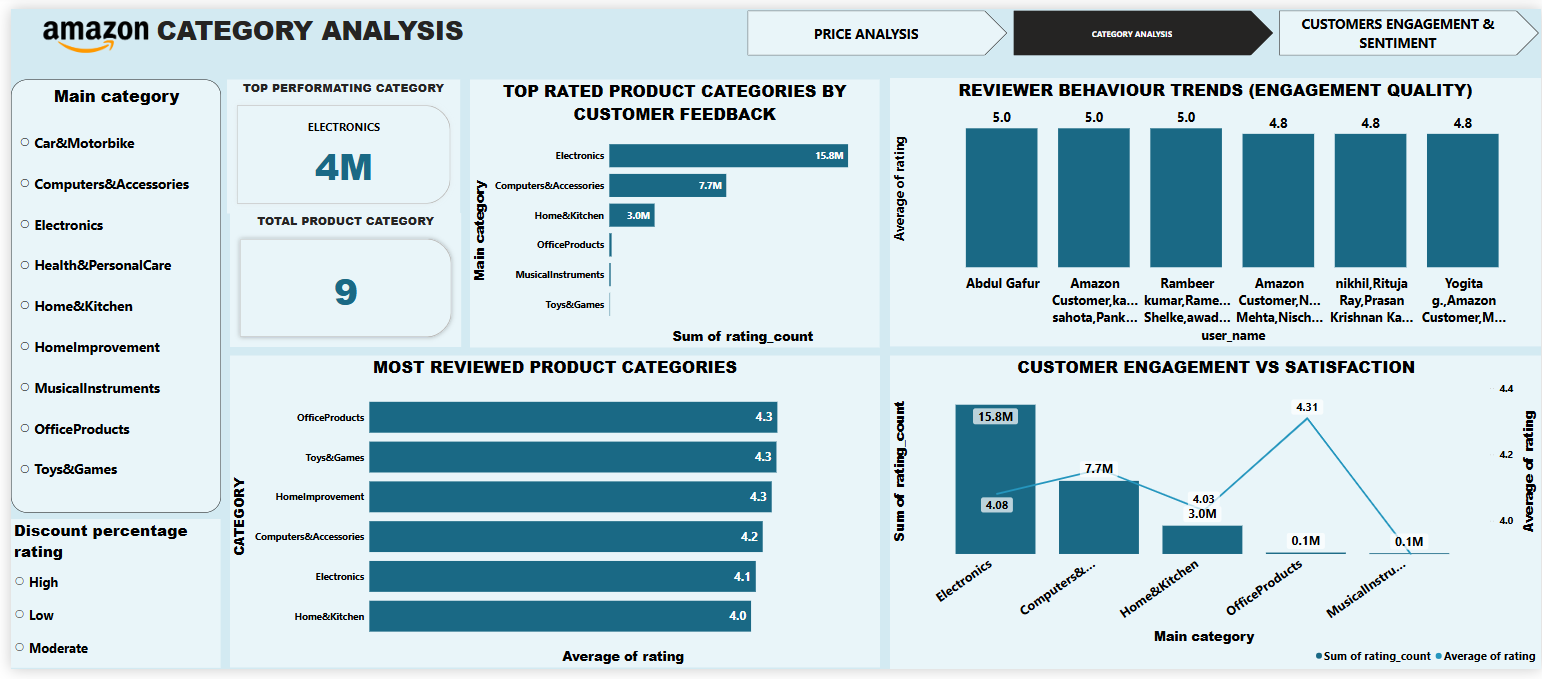

This screenshot's page, from the dashboard's own definition file:
{"tool":"powerbi","page":{"name":"CATEGORY ANALYSIS","canvas":[2550,1100],"ordinal":2},"visuals":[{"type":"cardVisual","title":"TOP PERFORMATING CATEGORY","fields":{"Data":["AMAZON E-COMMERCE SALES.rating_count"]},"box":[361.1,116.3,388.6,223.4],"z":0},{"type":"cardVisual","title":"TOTAL PRODUCT CATEGORY","fields":{"Data":["AMAZON E-COMMERCE SALES.NUMBER OF PRODUCT CATEGORY"]},"box":[364.1,339.7,385.6,223.4],"z":1000},{"type":"barChart","title":"MOST REVIEWED PRODUCT CATEGORIES","fields":{"Category":["AMAZON E-COMMERCE SALES.Main category"],"Y":["AMAZON E-COMMERCE SALES.rating"]},"box":[364.1,578.3,1083.2,520.2],"z":2000},{"type":"barChart","title":"TOP RATED PRODUCT CATEGORIES BY CUSTOMER FEEDBACK","fields":{"Category":["AMAZON E-COMMERCE SALES.Main category"],"Y":["AMAZON E-COMMERCE SALES.rating_count"]},"box":[765,116.3,682.4,446.8],"z":3000},{"type":"lineStackedColumnComboChart","title":"CUSTOMER ENGAGEMENT VS SATISFACTION","fields":{"Category":["AMAZON E-COMMERCE SALES.Main category"],"Y":["AMAZON E-COMMERCE SALES.rating_count"],"Y2":["AMAZON E-COMMERCE SALES.rating"]},"box":[1464,578.4,1087.3,522.4],"z":4000},{"type":"image","box":[0,15.7,282.5,62.8],"z":5000},{"type":"textbox","box":[238.5,0,611.9,78.4],"z":6000},{"type":"clusteredColumnChart","title":"REVIEWER BEHAVIOUR TRENDS (ENGAGEMENT QUALITY)","fields":{"Y":["AMAZON E-COMMERCE SALES.rating"],"Category":["AMAZON E-COMMERCE SALES.user_name"]},"box":[1465,116,1085,447],"z":7000},{"type":"listSlicer","fields":{"Values":["AMAZON E-COMMERCE SALES.Main category"]},"box":[0,116.3,350,722.2],"z":8000},{"type":"listSlicer","fields":{"Values":["AMAZON E-COMMERCE SALES.Discount percentage rating"]},"box":[0,850.7,349,247.9],"z":9000},{"type":"pageNavigator","box":[1227.7,3,1321.3,75.4],"z":10000}]}

Visuals, with their boxes in screenshot pixels (x1, y1, x2, y2), scaled from the page's 2550x1100 canvas onto the 1542x679 screenshot:
"TOP PERFORMATING CATEGORY" cardVisual: bbox=(218, 72, 453, 210)
"TOTAL PRODUCT CATEGORY" cardVisual: bbox=(220, 210, 453, 348)
"MOST REVIEWED PRODUCT CATEGORIES" barChart: bbox=(220, 357, 875, 678)
"TOP RATED PRODUCT CATEGORIES BY CUSTOMER FEEDBACK" barChart: bbox=(463, 72, 875, 348)
"CUSTOMER ENGAGEMENT VS SATISFACTION" lineStackedColumnComboChart: bbox=(885, 357, 1541, 678)
image: bbox=(0, 10, 171, 48)
textbox: bbox=(144, 0, 514, 48)
"REVIEWER BEHAVIOUR TRENDS (ENGAGEMENT QUALITY)" clusteredColumnChart: bbox=(886, 72, 1541, 348)
listSlicer - AMAZON E-COMMERCE SALES.Main category: bbox=(0, 72, 212, 518)
listSlicer - AMAZON E-COMMERCE SALES.Discount percentage rating: bbox=(0, 525, 211, 678)
pageNavigator: bbox=(742, 2, 1541, 48)
